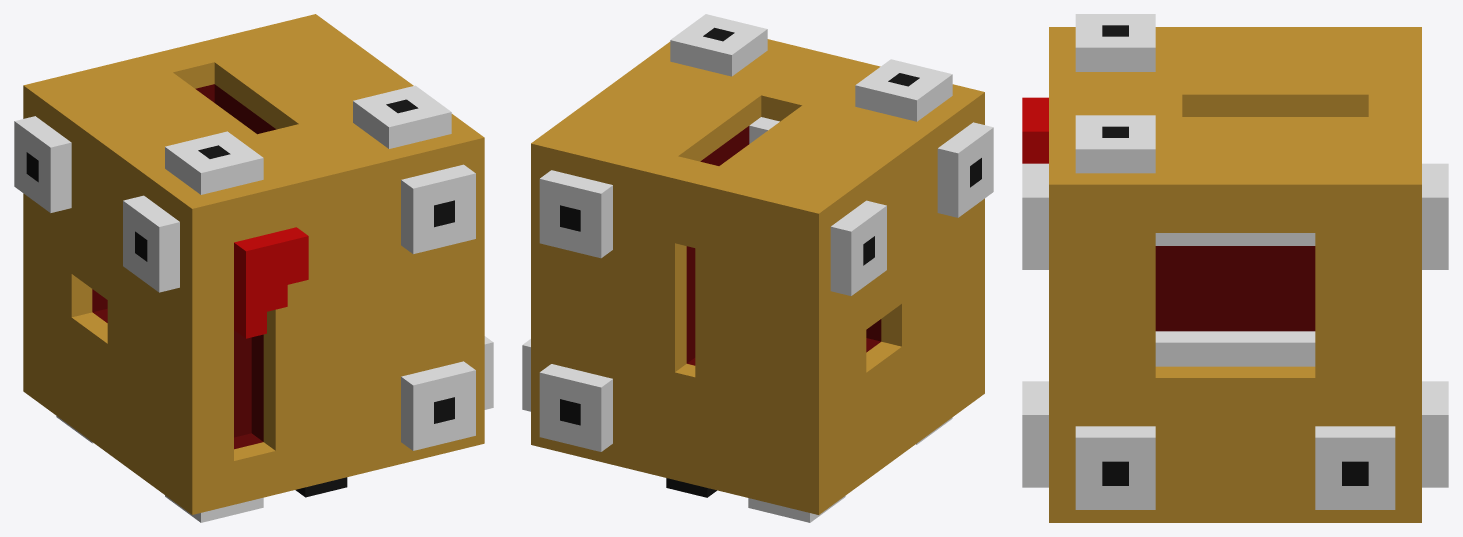
Rendered from bomb.obj.
3 views of the same model, side by side, from view 1: azimuth 30°, elevation 25°; view 2: azimuth 150°, elevation 25°; view 3: azimuth 270°, elevation 25° (orthographic). The views are drawn at different scales.
Bounding box in the file's own units: 16 × 16 × 16.
Materials: 1 (1 with a texture image).
